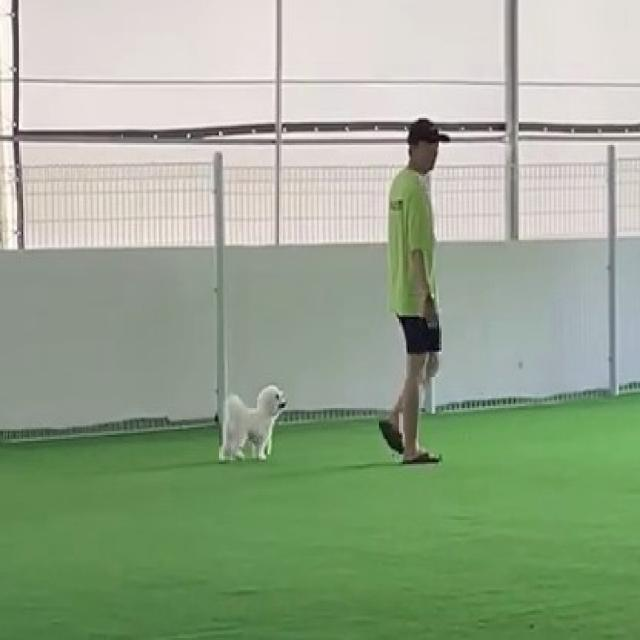Unleashed_Dog: (219, 383, 419, 463)
